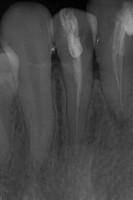Furcation Involvement: (105, 102, 133, 129)
